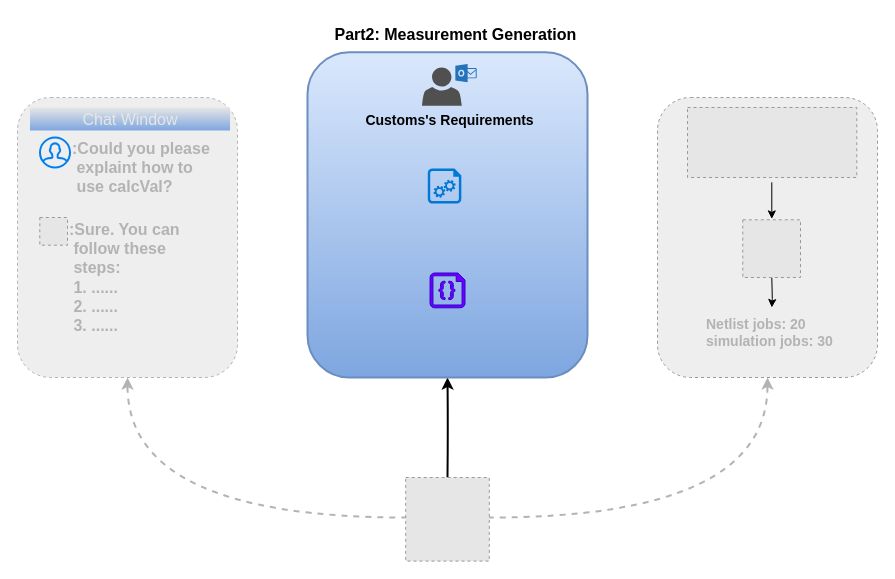
This 895x579 diagram has some shape labels left out. Grey dashed boxes stand in for pictures. Each missing label, with the centre of its shape:
"Measurement Generation" goes at (447,290).
"Requirements Analysis" goes at (444,185).
